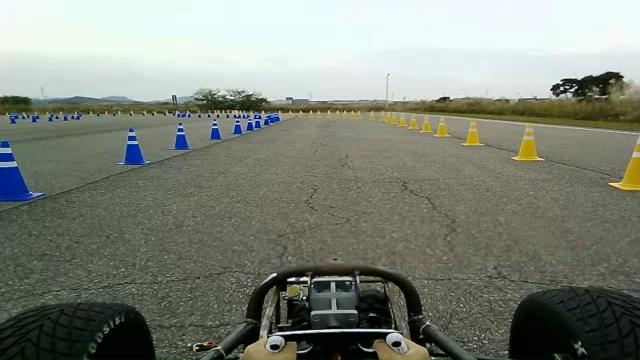blue cone: (0, 140, 45, 202), (115, 126, 152, 166), (168, 121, 194, 150), (207, 119, 224, 140), (231, 119, 243, 134), (252, 114, 262, 128), (268, 112, 280, 123), (245, 119, 254, 131)
yellow cone: (607, 135, 639, 191), (510, 122, 545, 162), (460, 118, 484, 146), (433, 117, 451, 137), (419, 115, 433, 133), (407, 114, 419, 130), (389, 112, 399, 125), (397, 115, 407, 127), (378, 110, 386, 122), (368, 109, 376, 120)
